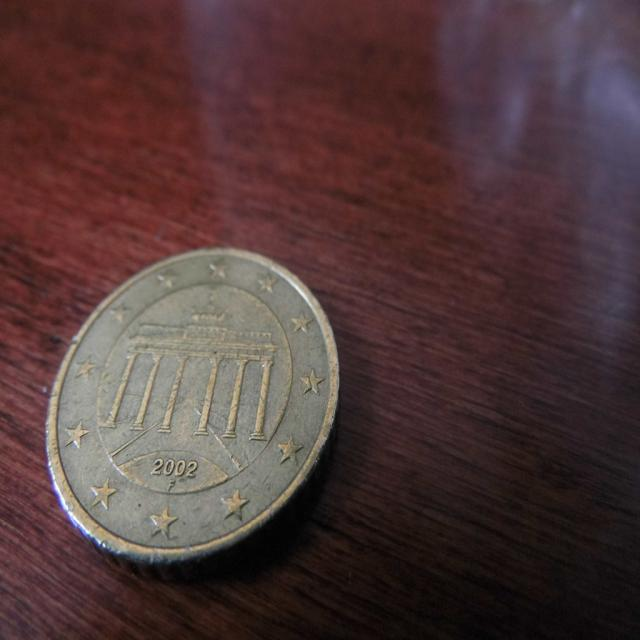Coin: (43, 245, 341, 565)
